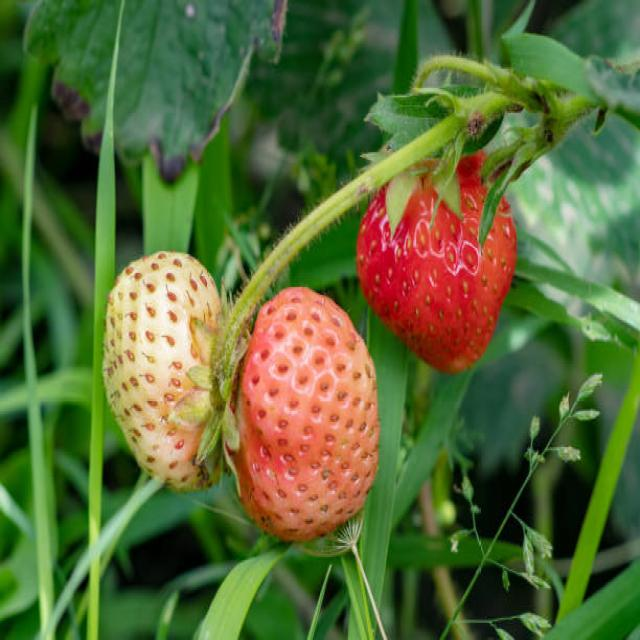Healthy Fruit: (231, 289, 378, 539), (356, 155, 516, 375), (102, 250, 218, 490)
